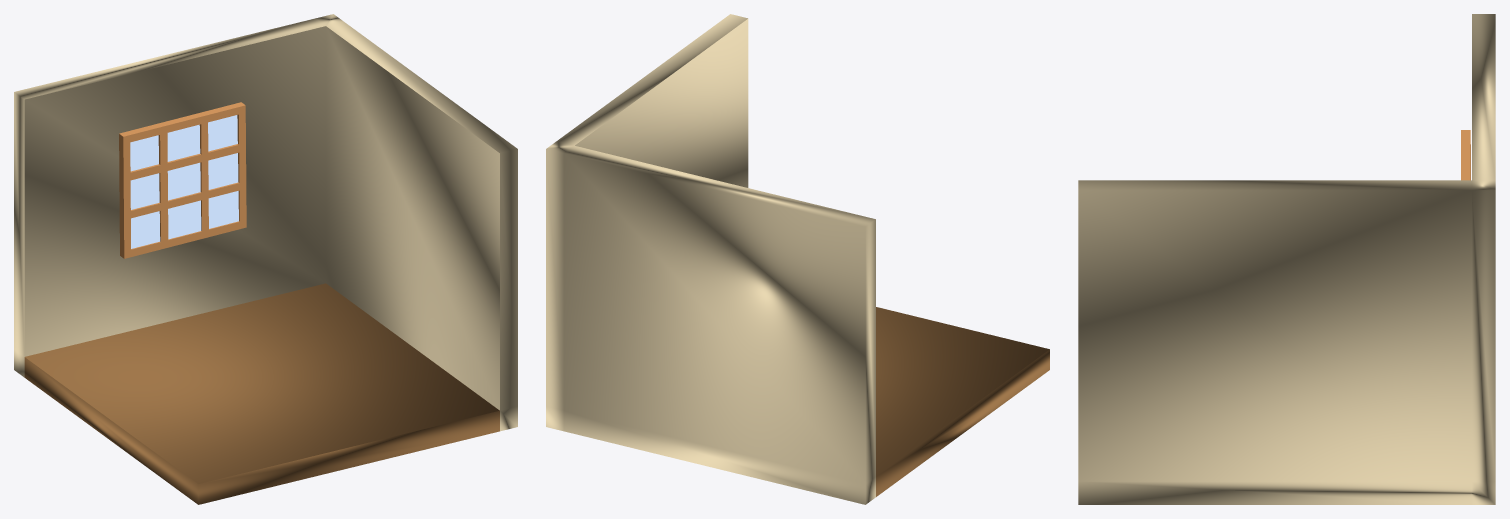
File: basicRoom.glb
3 renders of one model, left to right at view 1: azimuth 30°, elevation 25°; view 2: azimuth 150°, elevation 25°; view 3: azimuth 270°, elevation 25°, orthographic. The views are drawn at different scales.
Parts seen in each view (by area): view 1: Room, Glass, Frame; view 2: Room; view 3: Room, Frame.
Part boxes in pixels (box(x1,y1,x2,y2)): Room: box(14, 14, 517, 504); Glass: box(130, 115, 238, 248); Frame: box(119, 102, 246, 258); Room: box(546, 14, 1049, 504); Room: box(1078, 14, 1495, 504); Frame: box(1461, 130, 1470, 180).
Bounding box in the file's own units: 2 × 1.66 × 2.
